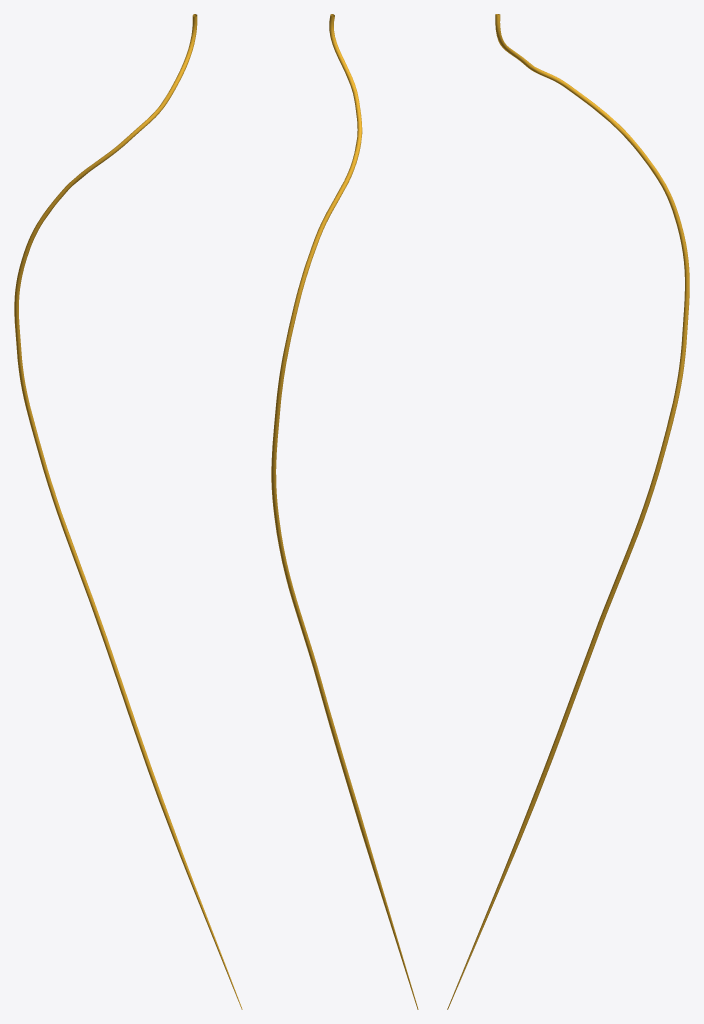
Rendered from nervoso-posterior-antebrachial-cutaneous-nerve-r.glb.
3 views of the same model, side by side, from view 1: azimuth 90°, elevation 25°; view 2: azimuth 150°, elevation 25°; view 3: azimuth 270°, elevation 25° (orthographic). The views are drawn at different scales.
Visible parts, largest first — view 1: Posterior antebrachial cutaneous nerve.r; view 2: Posterior antebrachial cutaneous nerve.r; view 3: Posterior antebrachial cutaneous nerve.r.
Part boxes in pixels (x1,y1,x2,y2): Posterior antebrachial cutaneous nerve.r: (14, 14, 242, 1009); Posterior antebrachial cutaneous nerve.r: (271, 14, 418, 1009); Posterior antebrachial cutaneous nerve.r: (447, 14, 689, 1009).
Size of the model in its own units: 0.0159 by 0.2309 by 0.0494.
